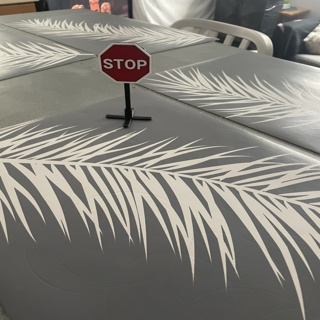sign_stop: (96, 39, 151, 82)
